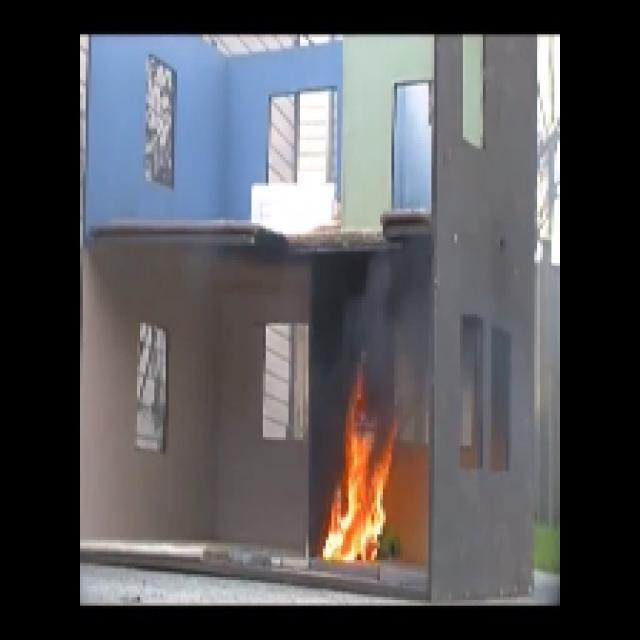Fire: (328, 422, 394, 559)
Smoke: (352, 258, 401, 347)
